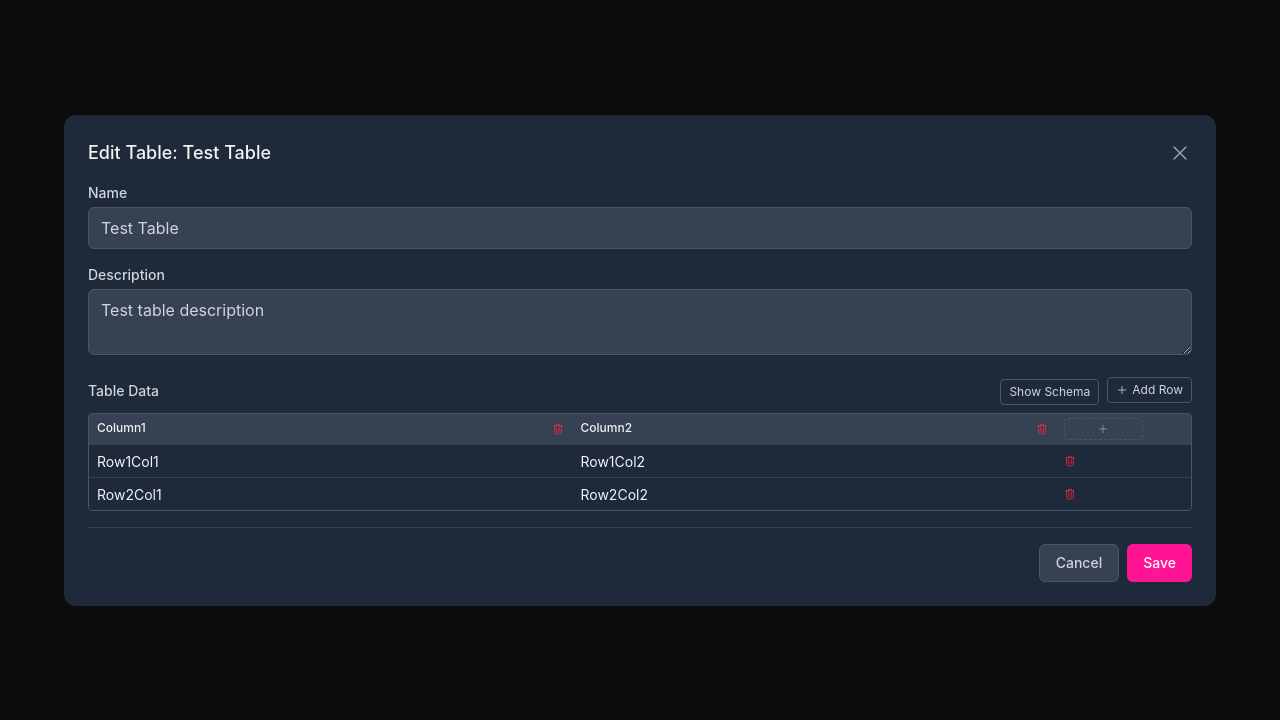
Test case: KnowledgeUnitEditModal › Schema editor › should toggle schema editor visibility
Check: the text "Type" is not shown
Note: Click "Show Schema" button
Click the button "Show Schema": click(1050, 392) [1000,378,1099,404]
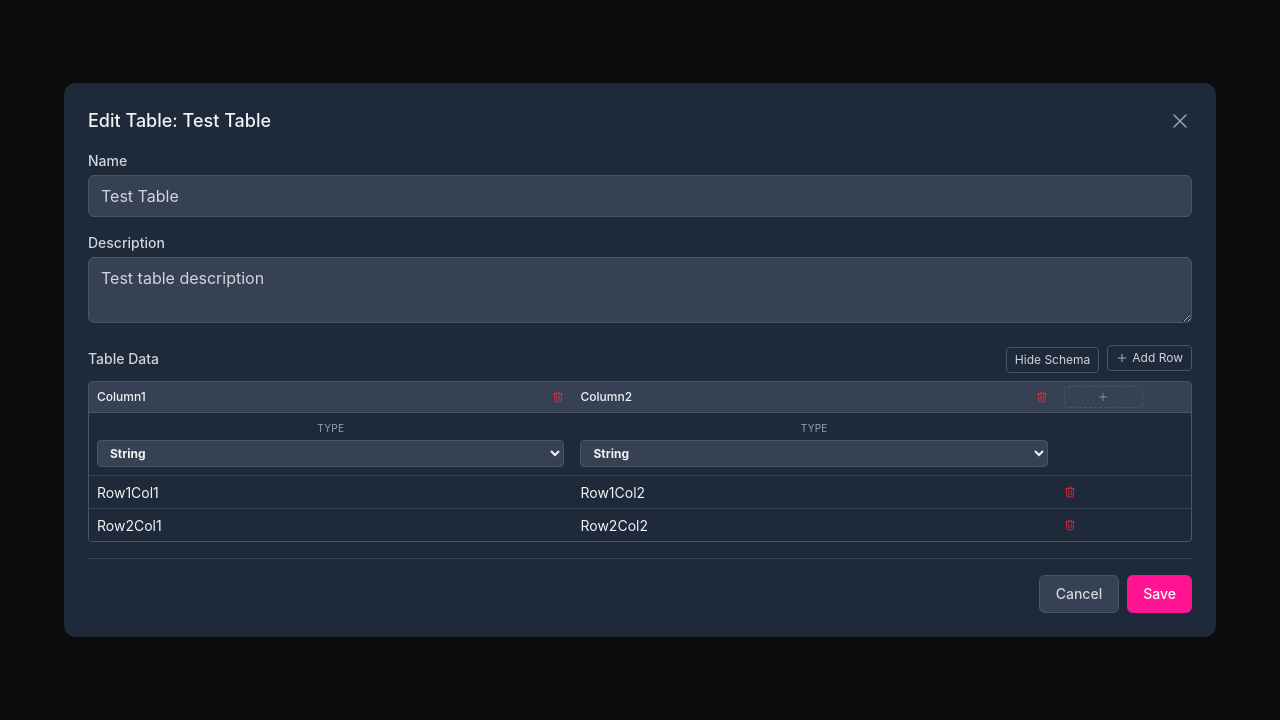
Check: the 1st text "Type" is shown, box [317,422,344,434]
Note: Click "Hide Schema" to hide it again
Click the button "Hide Schema": click(1053, 360) [1006,347,1099,373]
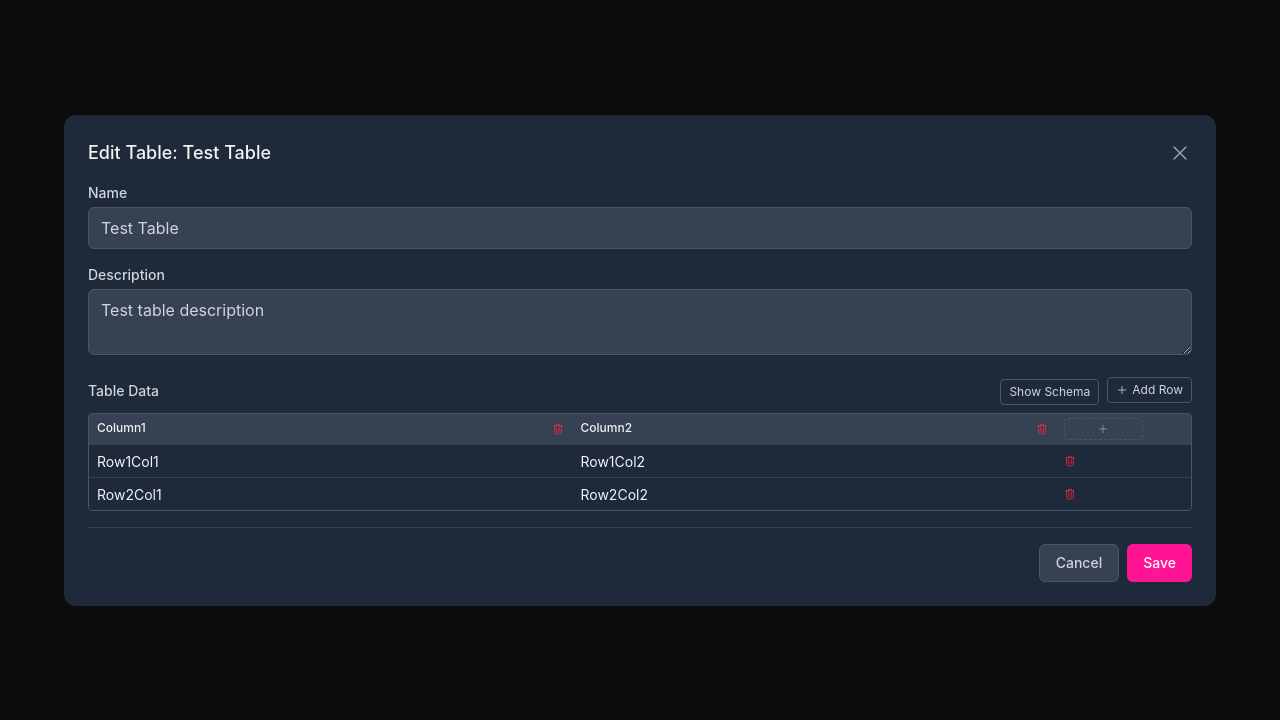
Check: the text "Type" is gone
